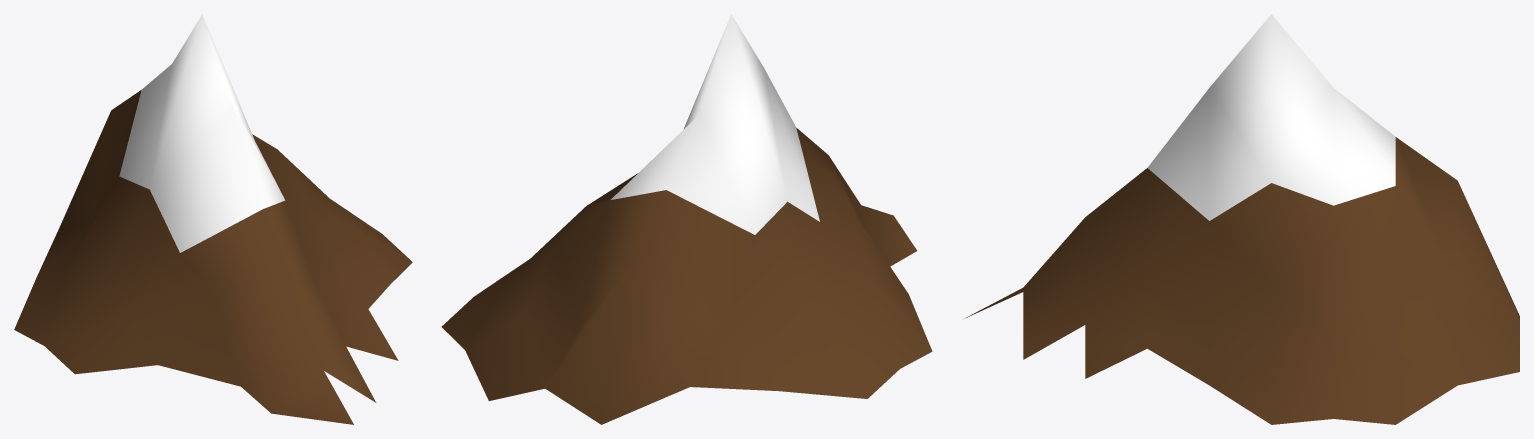
The model's file is texmountain.fbx.
3 views of the same model, side by side, from view 1: azimuth 30°, elevation 25°; view 2: azimuth 150°, elevation 25°; view 3: azimuth 270°, elevation 25° (orthographic). The views are drawn at different scales.
Parts seen in each view (by area): view 1: Mountain; view 2: Mountain; view 3: Mountain.
Part boxes in pixels (x1,y1,x2,y2): Mountain: [14, 14, 412, 424]; Mountain: [441, 14, 932, 424]; Mountain: [964, 14, 1519, 424].
Size of the model in its own units: 613 by 497 by 787.
